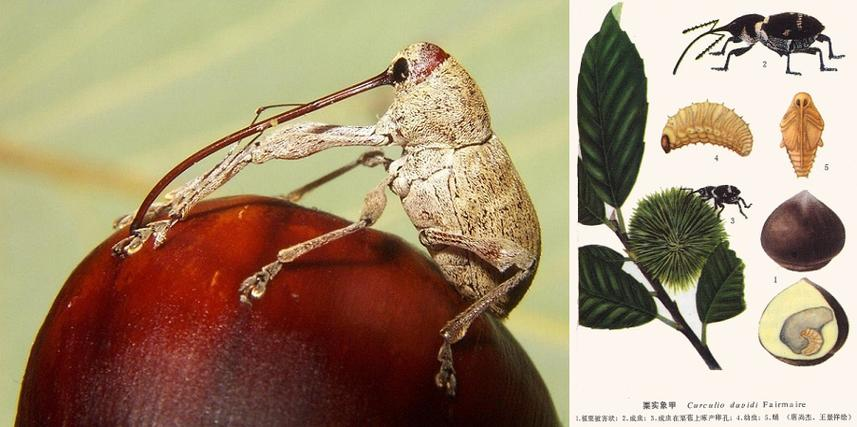Curculionidae: (111, 41, 542, 398), (672, 10, 845, 75), (680, 185, 753, 223)
